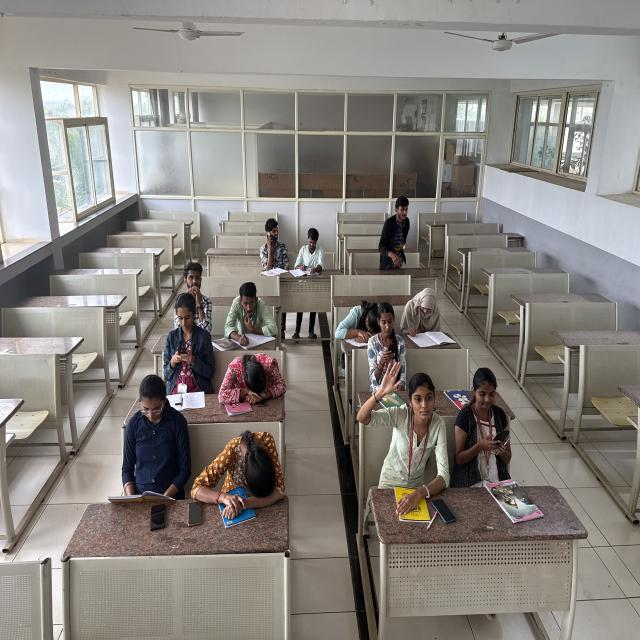Hand Rising: (352, 358, 458, 517)
Reading: (113, 370, 193, 524)
Sleeping: (188, 423, 300, 515), (217, 346, 297, 426), (331, 292, 383, 359)
Using Phone: (447, 360, 519, 499), (160, 290, 215, 400), (363, 297, 411, 403), (254, 213, 296, 279)
Writing: (216, 275, 282, 357), (397, 284, 452, 346), (289, 225, 328, 280)
